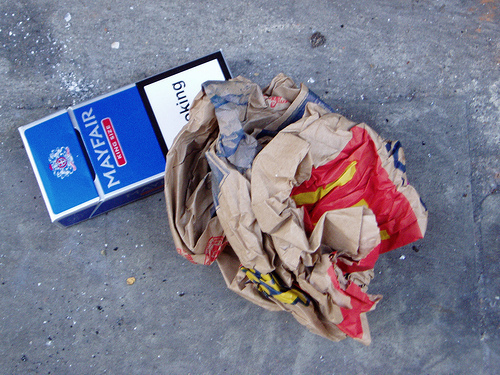litter: (163, 80, 430, 346), (21, 49, 248, 227)
